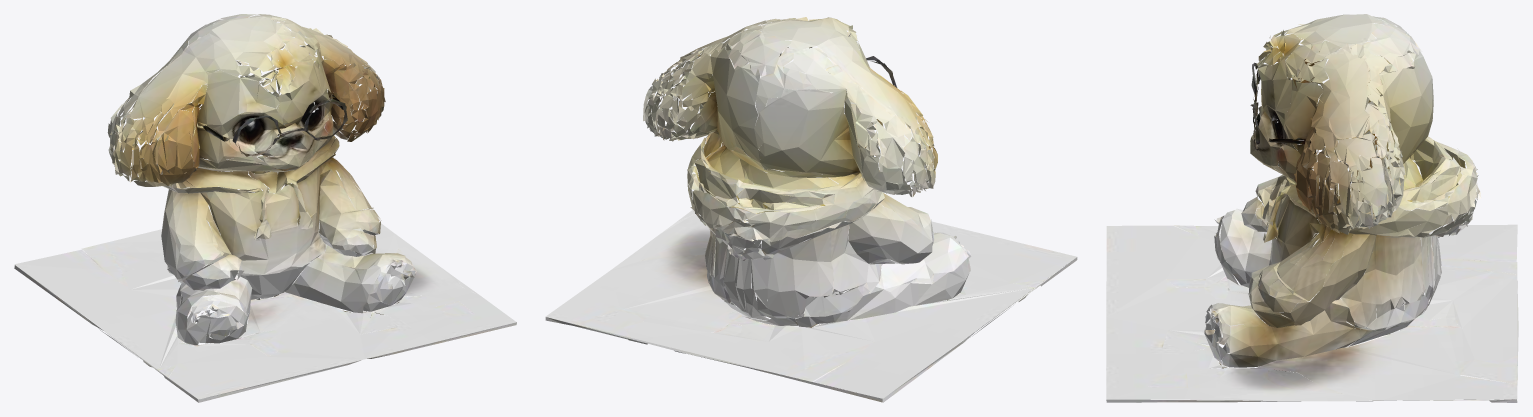
The model's file is char_clo.glb.
3 renders of one model, left to right at view 1: azimuth 30°, elevation 25°; view 2: azimuth 150°, elevation 25°; view 3: azimuth 270°, elevation 25°, orthographic. The views are drawn at different scales.
Visible parts, largest first — view 1: char_clo_model; view 2: char_clo_model; view 3: char_clo_model.
Boxes of the visible parts, left/top/right/bottom form: char_clo_model: left=14, top=14, right=516, bottom=402; char_clo_model: left=545, top=17, right=1077, bottom=402; char_clo_model: left=1106, top=14, right=1518, bottom=402.
Bounding box in the file's own units: 1.16 × 0.9659 × 1.16.
1 material, 1 textured.
